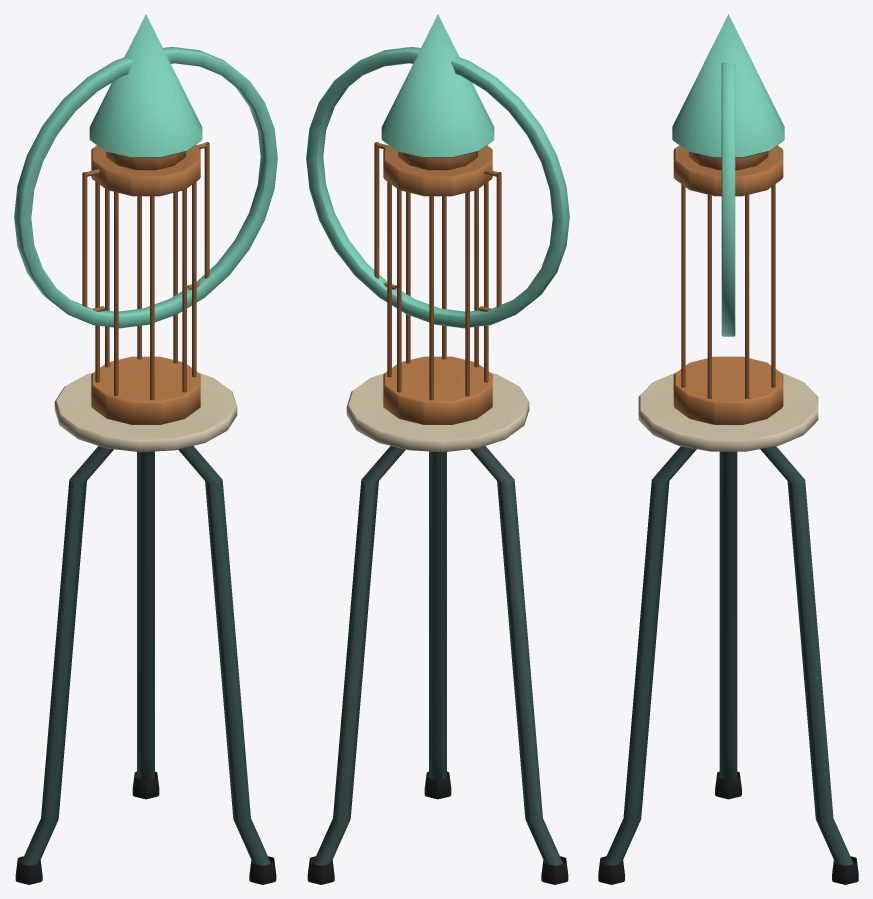
The model's file is lantern_beacon_frame.glb.
3 renders of one model, left to right at view 1: azimuth 30°, elevation 25°; view 2: azimuth 150°, elevation 25°; view 3: azimuth 270°, elevation 25°, orthographic.
Visible parts, largest first — view 1: Frame, Housing; view 2: Frame, Housing; view 3: Frame, Housing.
Boxes of the visible parts, x1,y1,x2,y2 form: Frame: [14, 14, 277, 884]; Housing: [54, 145, 237, 452]; Frame: [306, 14, 569, 884]; Housing: [346, 145, 529, 452]; Frame: [598, 14, 858, 884]; Housing: [638, 145, 818, 451].
Size of the model in its own units: 6.87 by 21.2 by 5.99.
